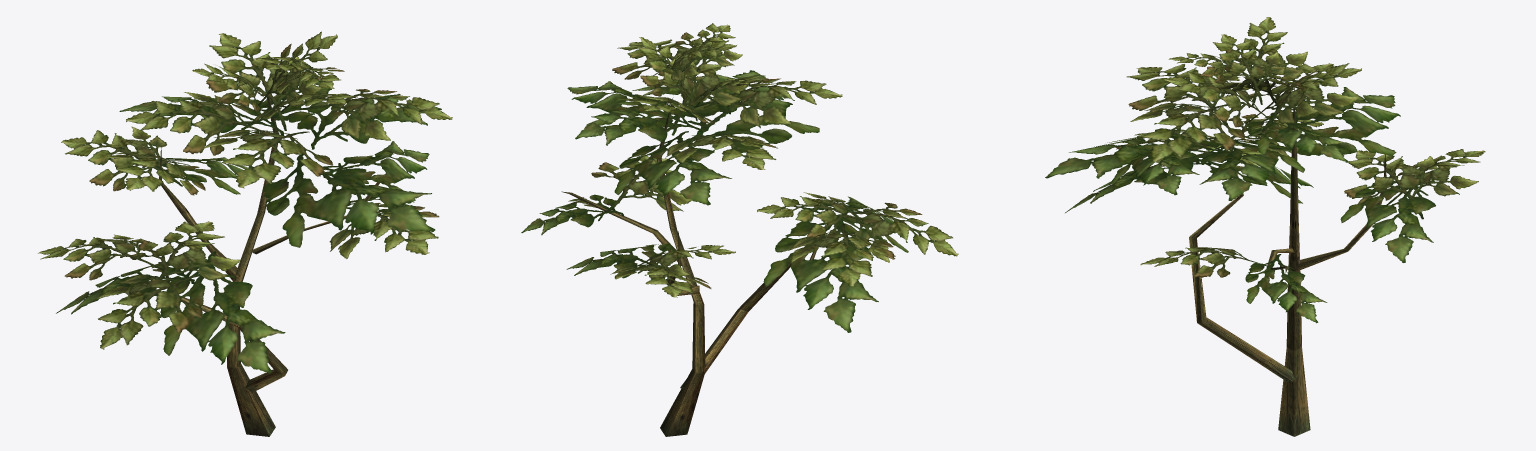
The model's file is SC001Jzhiwu_27.FBX.
3 views of the same model, side by side, from view 1: azimuth 30°, elevation 25°; view 2: azimuth 150°, elevation 25°; view 3: azimuth 270°, elevation 25° (orthographic). The views are drawn at different scales.
Visible parts, largest first — view 1: SC001Jzhiwu_27; view 2: SC001Jzhiwu_27; view 3: SC001Jzhiwu_27.
Part boxes in pixels (x1,y1,x2,y2): SC001Jzhiwu_27: [38, 31, 452, 436]; SC001Jzhiwu_27: [521, 23, 958, 436]; SC001Jzhiwu_27: [1045, 17, 1485, 436].
Size of the model in its own units: 10.58 by 9.59 by 11.65.
